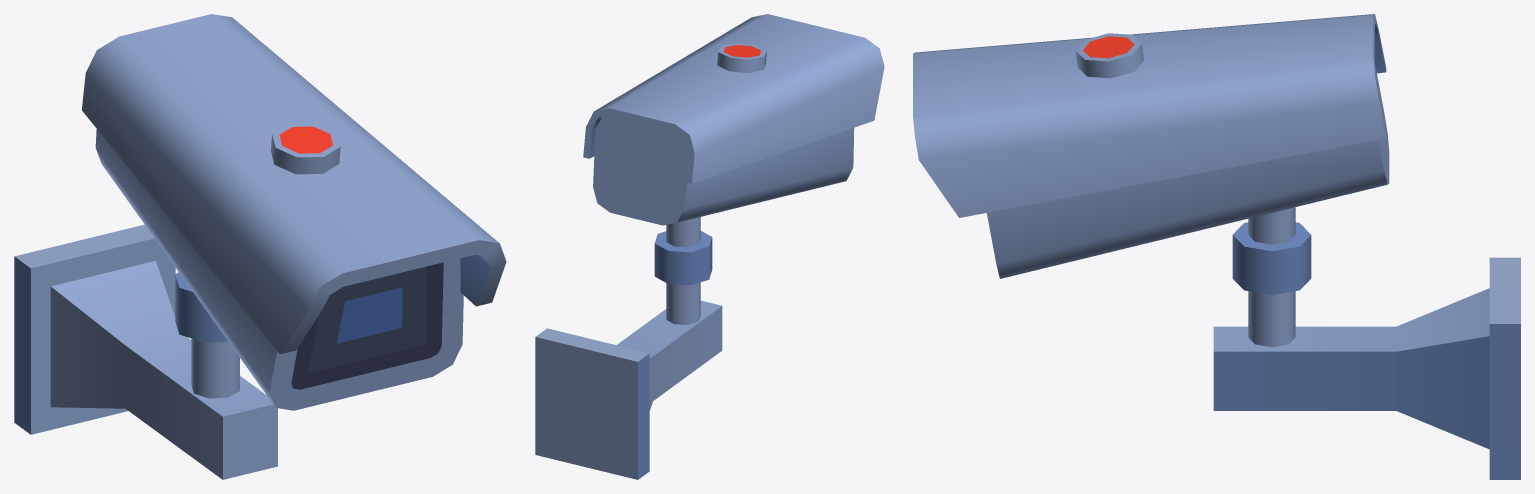
File: cctv.fbx
The picture shows the model from 3 angles, left to right: view 1: azimuth 30°, elevation 25°; view 2: azimuth 150°, elevation 25°; view 3: azimuth 270°, elevation 25°; orthographic projection. The views are drawn at different scales.
Visible parts, largest first — view 1: camera, cctv; view 2: camera, cctv; view 3: camera, cctv.
Boxes of the visible parts, box(x1,y1,x2,y2) form: camera: box(82, 14, 506, 410); cctv: box(14, 224, 277, 479); camera: box(583, 14, 884, 324); cctv: box(535, 300, 722, 479); camera: box(913, 14, 1389, 347); cctv: box(1213, 257, 1520, 479).
Bounding box in the file's own units: 0.2968 × 0.5841 × 0.784.
